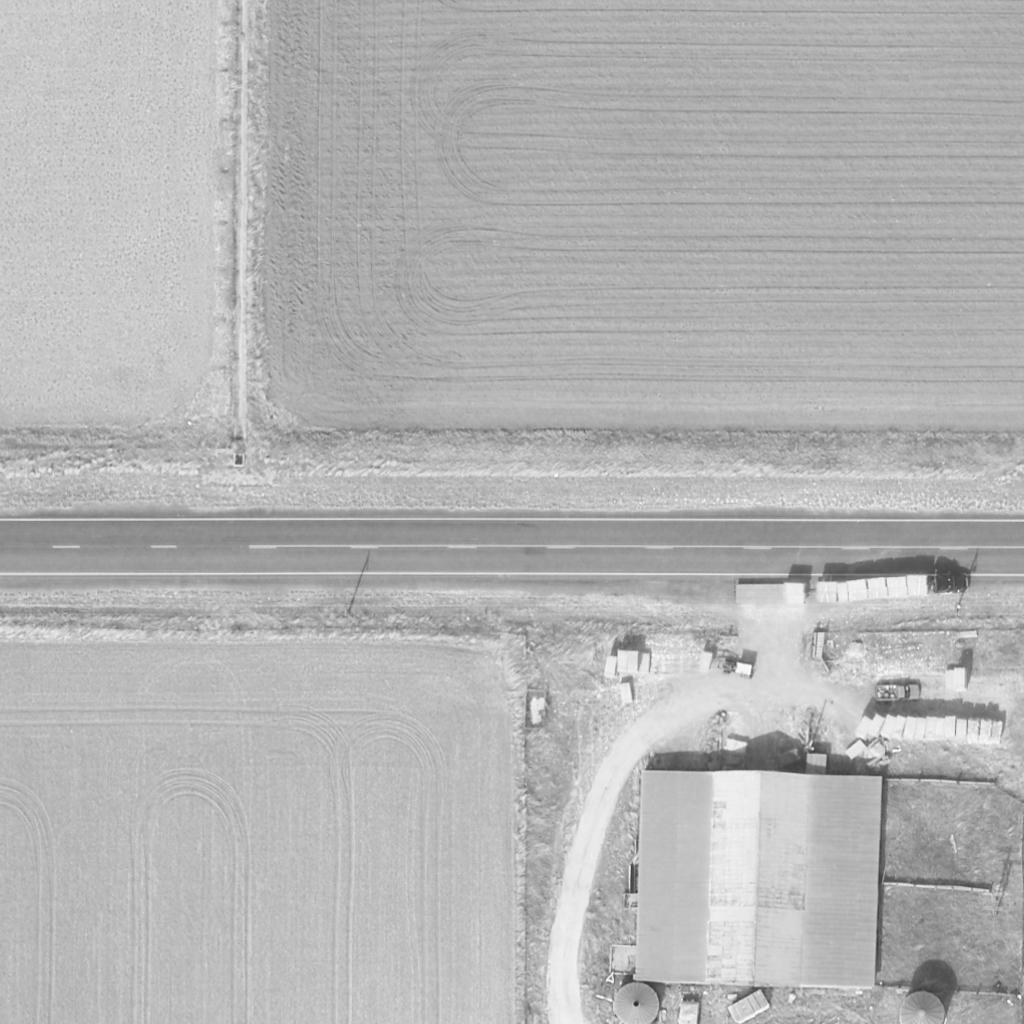vehicle: (832, 569, 972, 607), (871, 684, 921, 702)
